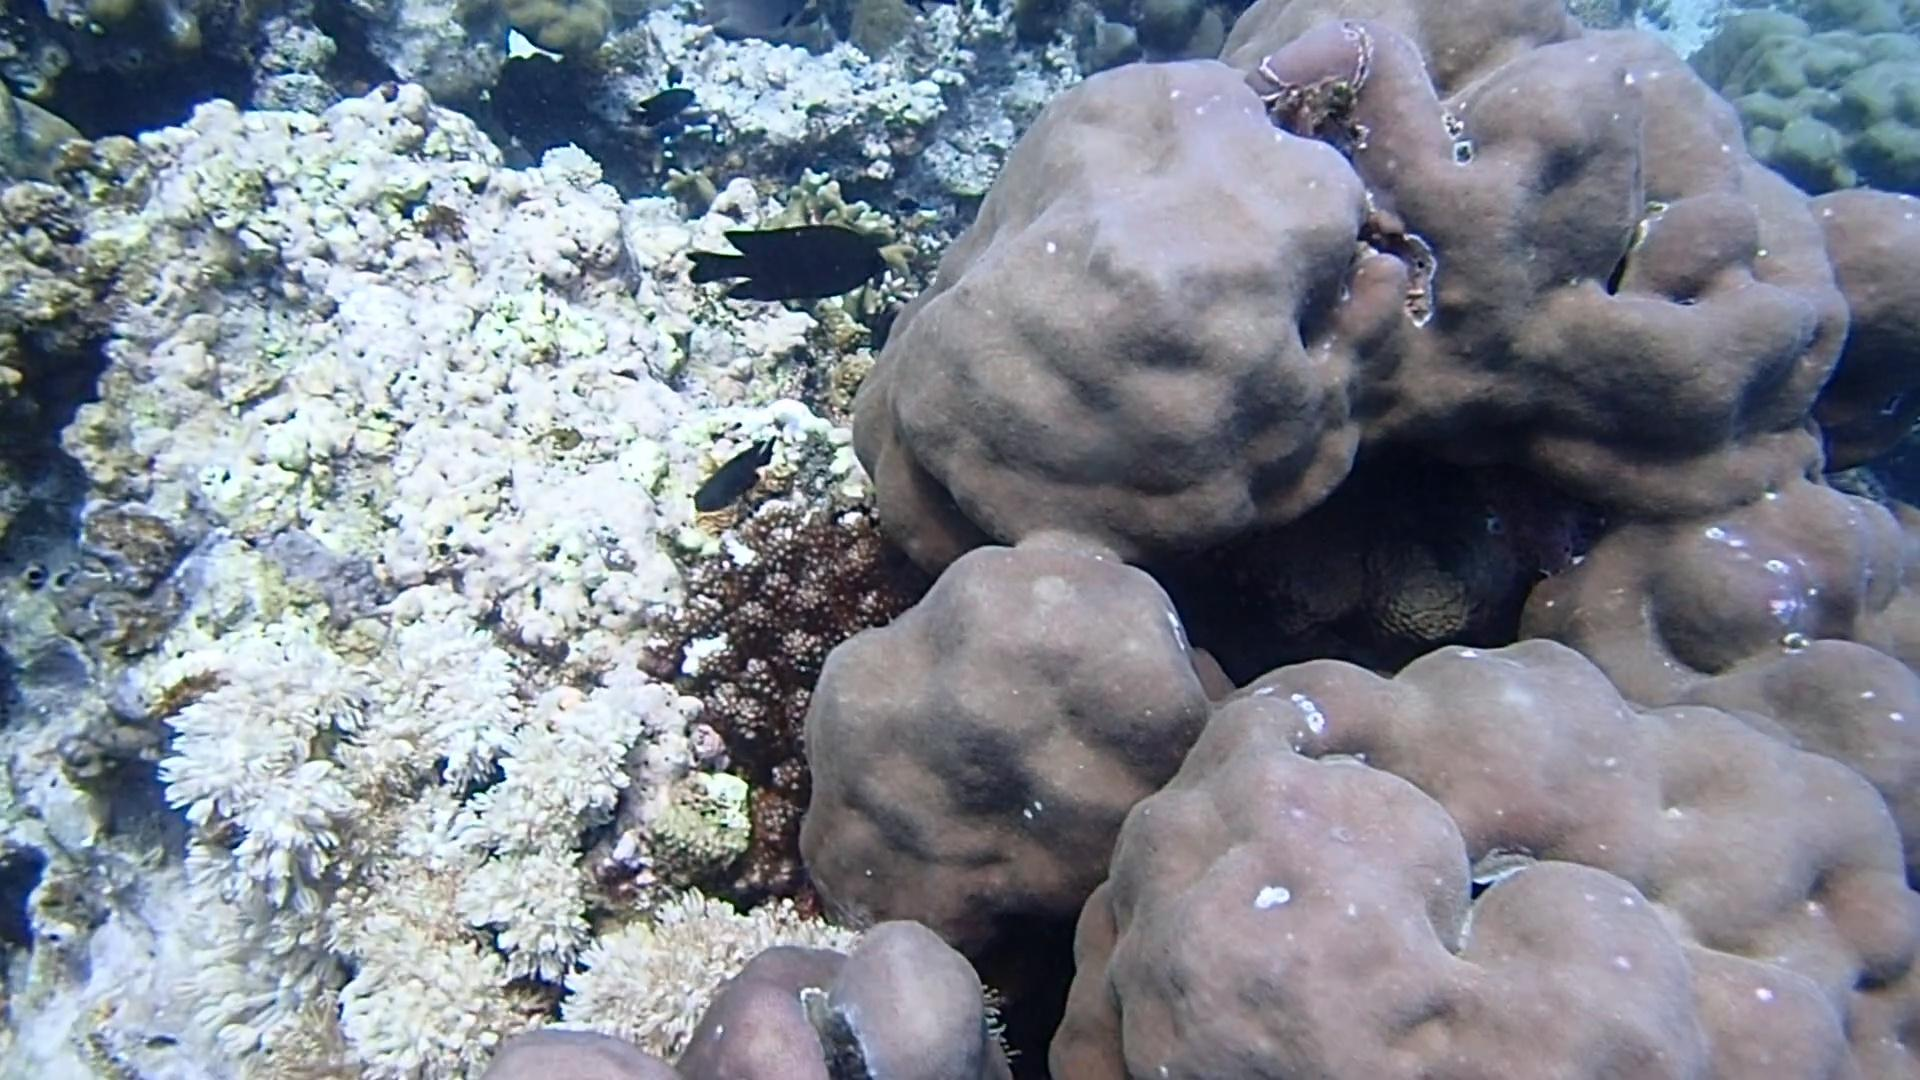Dark Fish: (674, 211, 903, 316), (684, 426, 783, 522), (621, 79, 698, 136)
